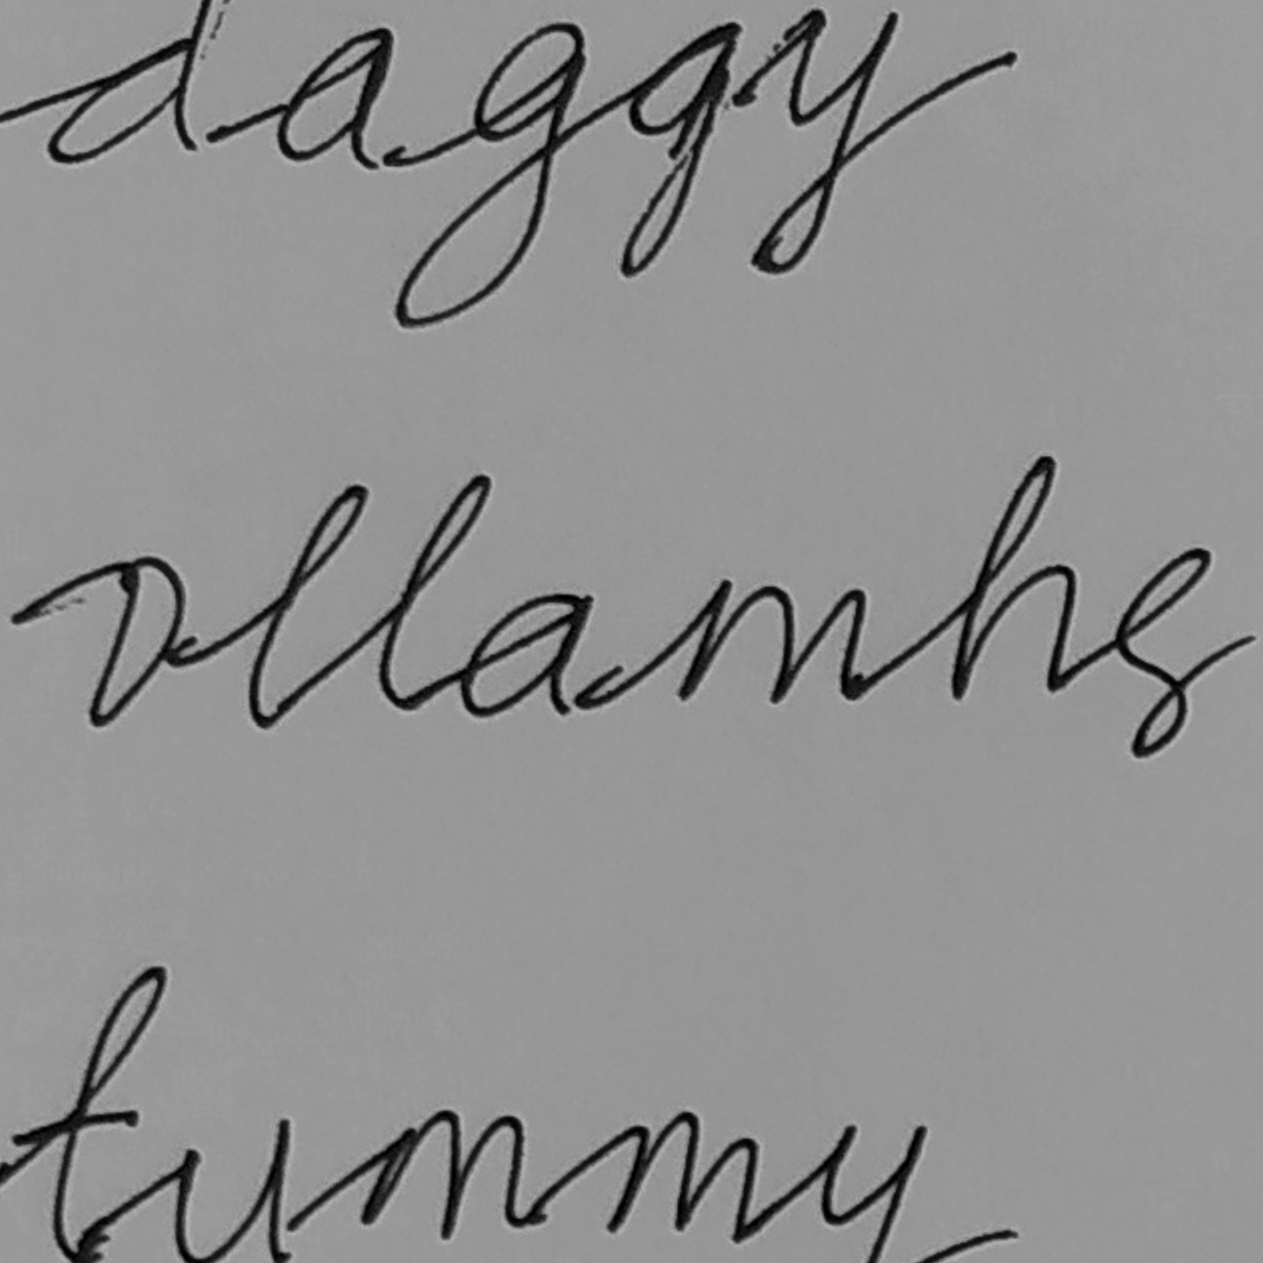a: (456, 588, 597, 724)
h: (948, 451, 1079, 702)
l: (243, 481, 372, 733), (375, 470, 496, 718)
m: (672, 574, 871, 709)
o: (84, 551, 194, 736)
s: (1110, 544, 1214, 761)
